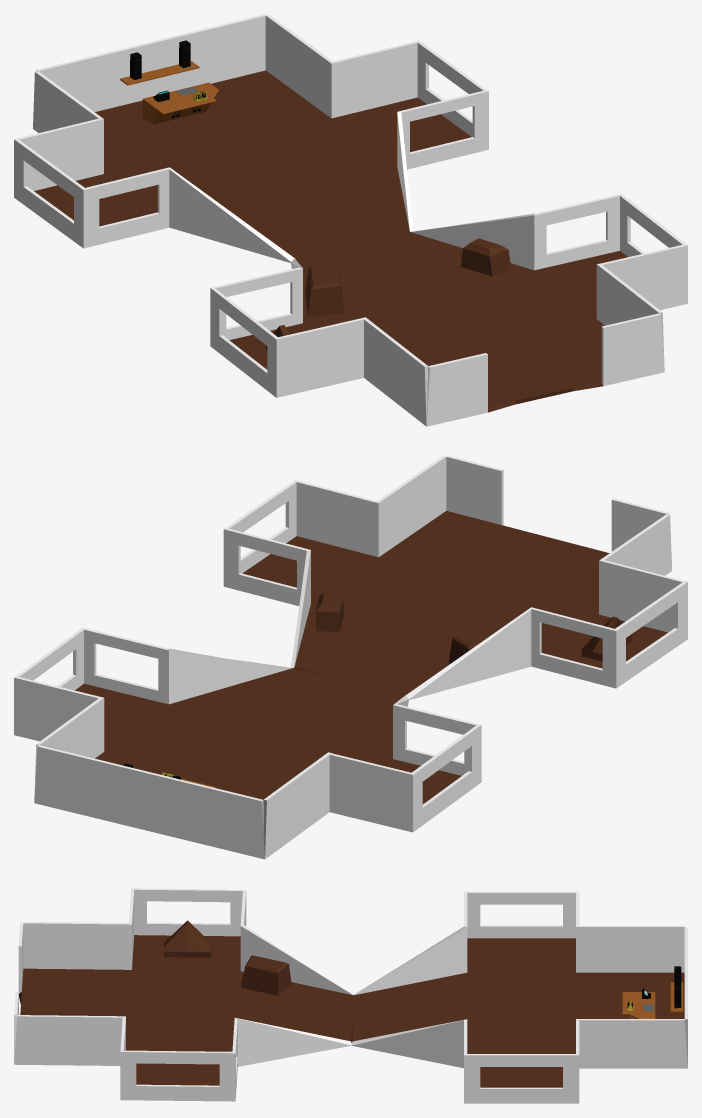
The model's file is Music_shop.glb.
3 renders of one model, top to bottom at view 1: azimuth 30°, elevation 25°; view 2: azimuth 150°, elevation 25°; view 3: azimuth 270°, elevation 25°, orthographic. The views are drawn at different scales.
Parts seen in each view (by area): view 1: Plane.001, Plane.002, Desk; view 2: Plane.002, Plane.001; view 3: Plane.002, Plane.001, Desk.
Part boxes in pixels (x1,y1,x2,y2): Plane.001: [14, 14, 488, 262]; Plane.002: [210, 193, 687, 426]; Desk: [142, 82, 218, 124]; Plane.002: [223, 455, 687, 700]; Plane.001: [14, 627, 481, 859]; Plane.002: [14, 888, 353, 1101]; Plane.001: [351, 891, 687, 1103]; Desk: [622, 992, 655, 1018].
Bounding box in the file's own units: 61.87 × 8.37 × 106.
